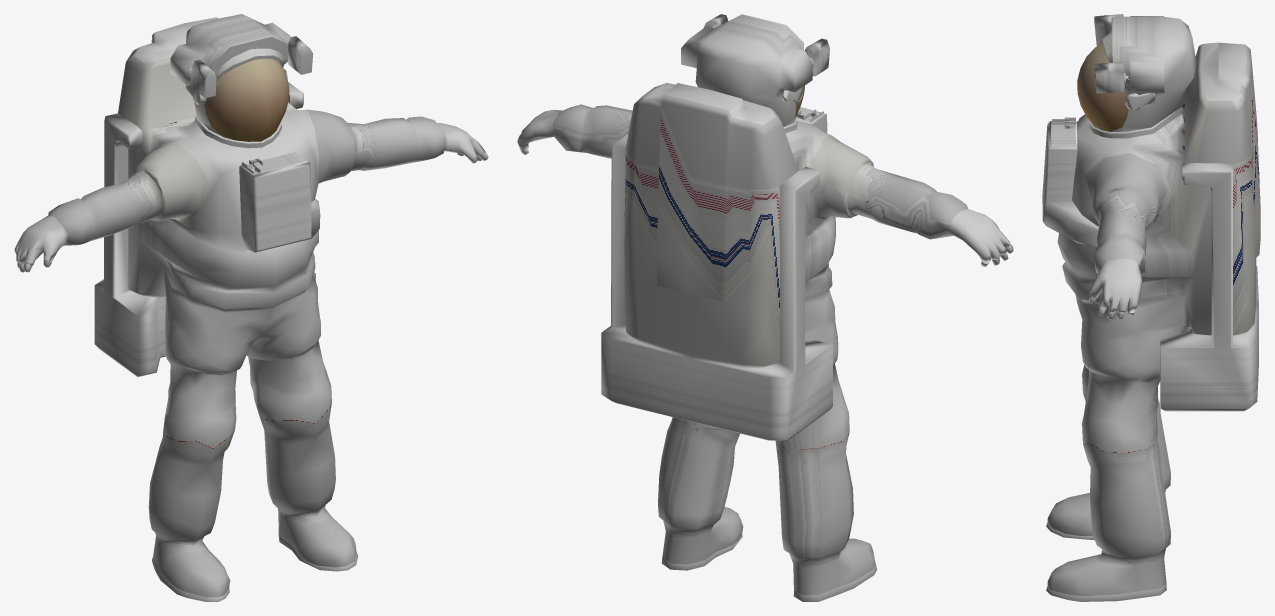
The model's file is astronaut.glb.
3 views of the same model, side by side, from view 1: azimuth 30°, elevation 25°; view 2: azimuth 150°, elevation 25°; view 3: azimuth 270°, elevation 25° (orthographic). The views are drawn at different scales.
Visible parts, largest first — view 1: astronaut1; view 2: astronaut1; view 3: astronaut1.
Part boxes in pixels (box(x1,y1,x2,y2)): astronaut1: box(14, 14, 488, 601); astronaut1: box(517, 14, 1013, 601); astronaut1: box(1042, 14, 1260, 601).
Bounding box in the file's own units: 68.91 × 74.26 × 27.56.
2 materials, 2 textured.
